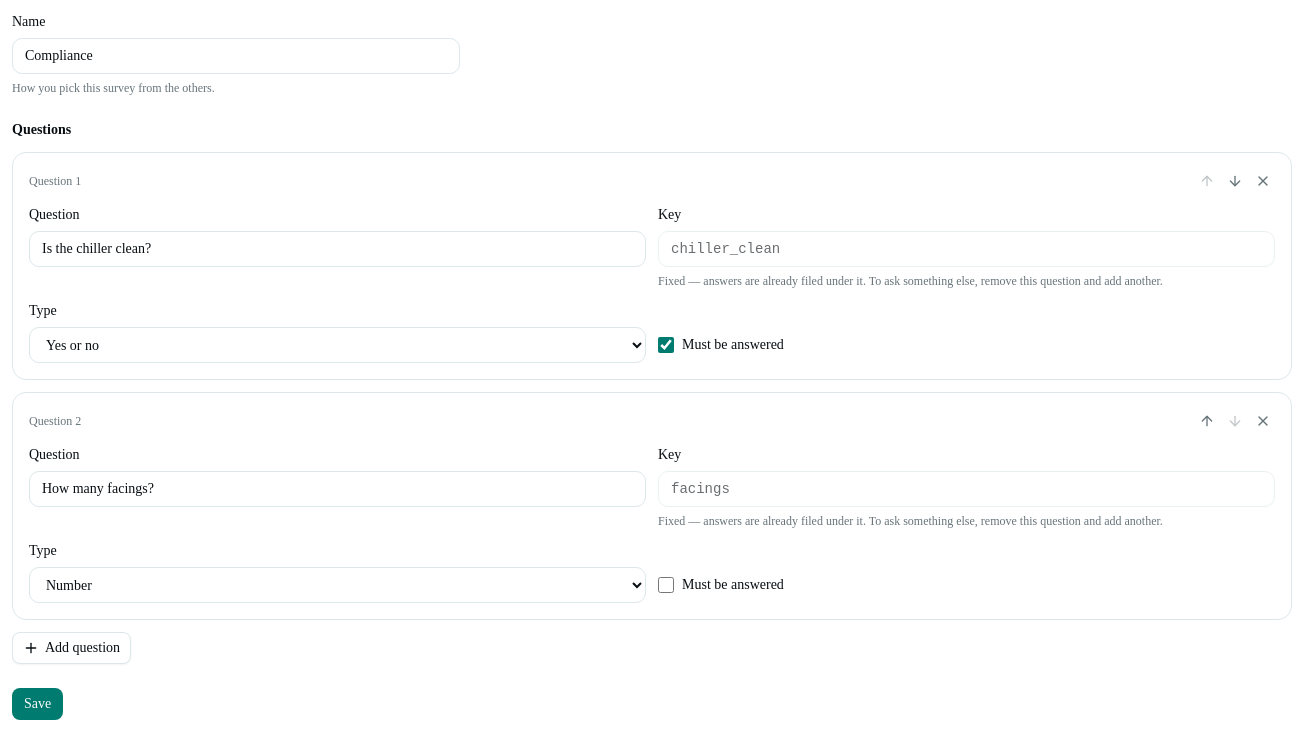
Test: <SurveyEditor> › shows the server's refusal in the reader's language
Check: the button "Add question" is shown, box [12,632,131,664]
Click the button "Save" at (38, 704), box [12,688,63,720]
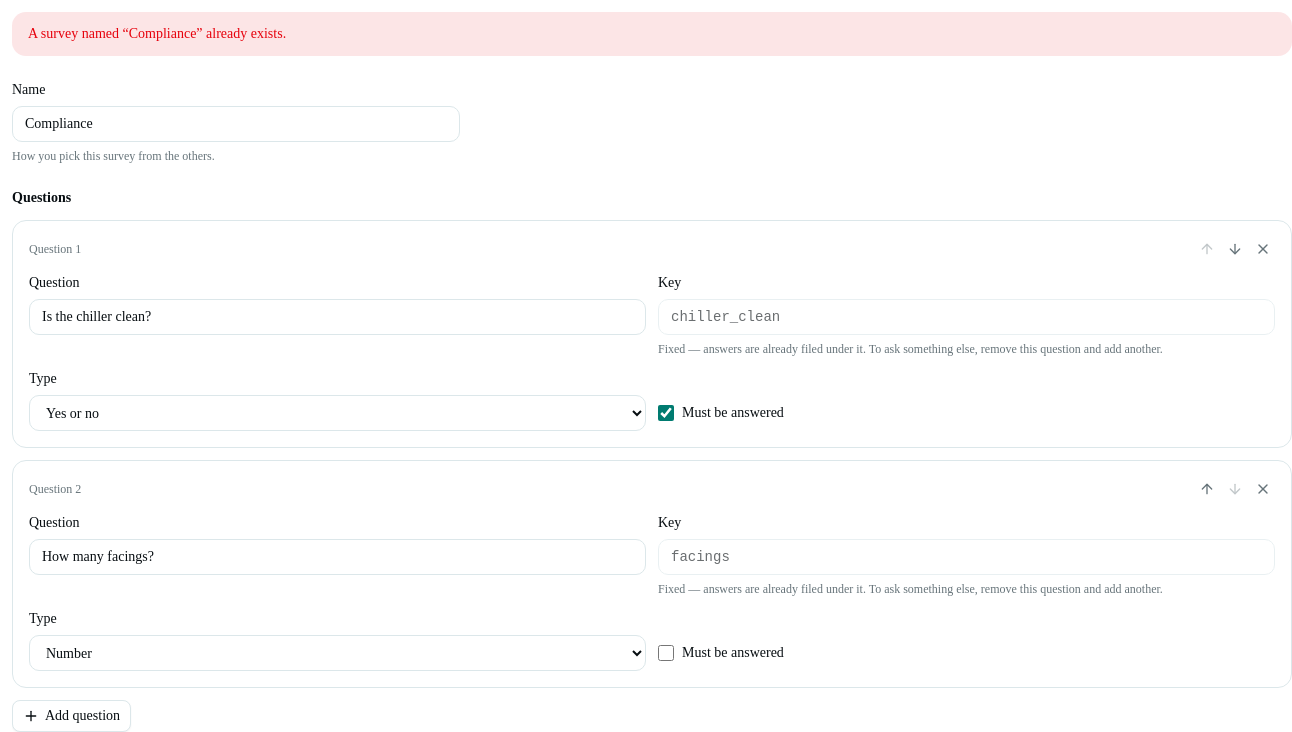
Check: the message reads "A survey named “Compliance” already exists.", box [28,26,286,41]
